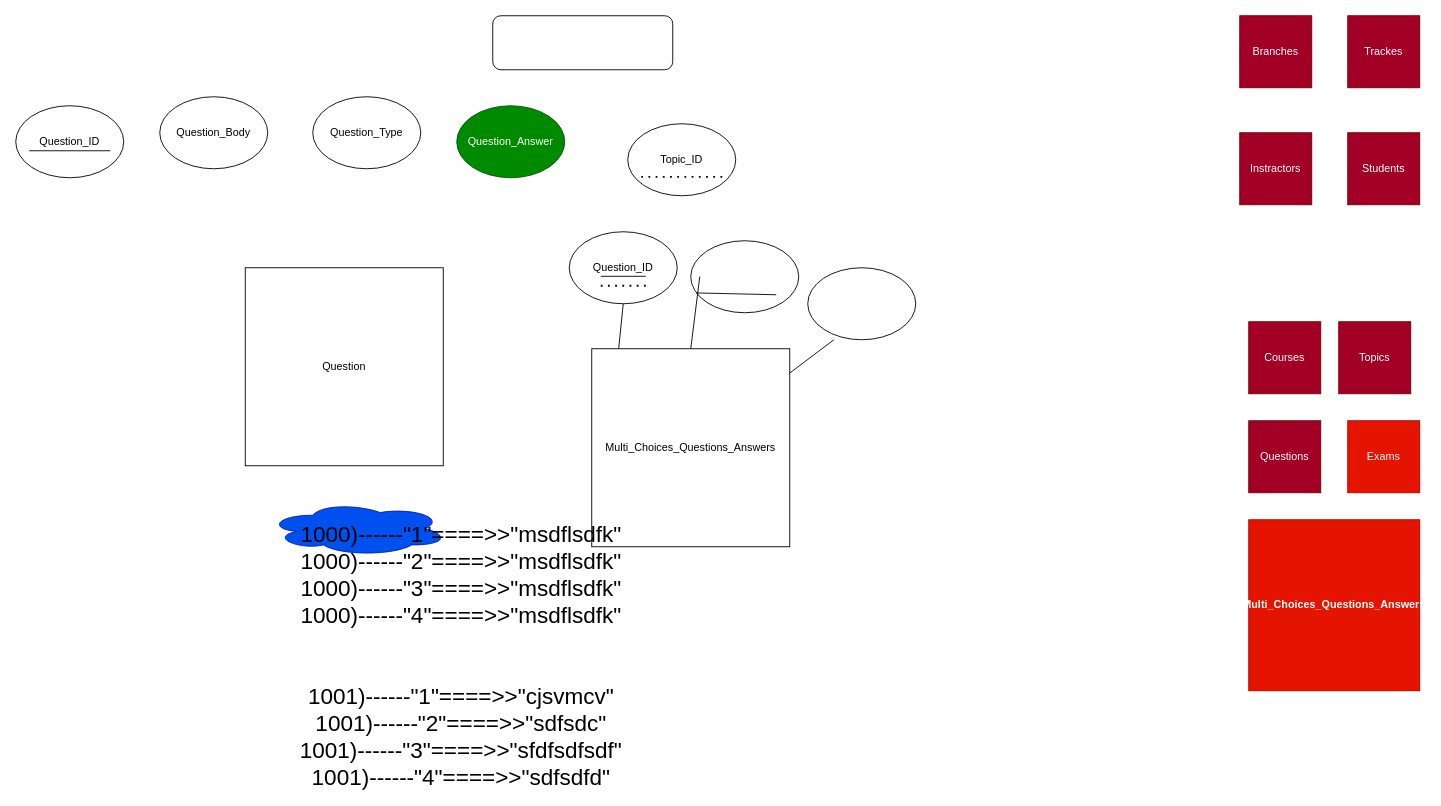
Image size: 1441x806. Some labels were removed from this diagram. The shapes that lost their labels are listed below. From the top down, each one's box as (x1, y1, x2, y2) in pixels, then its label:
(492, 15, 673, 70): 1-True false 2-Multi choice
(690, 240, 799, 313): Number_Of_Choice
(807, 267, 916, 340): Body_Of_Choice
